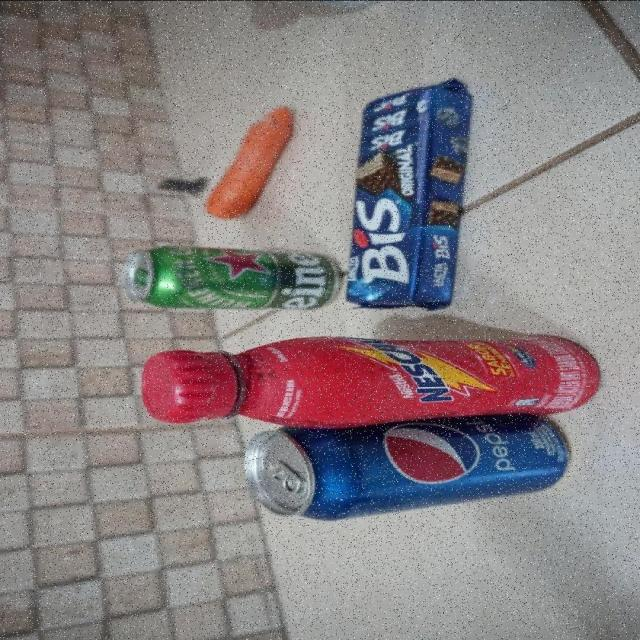BeerCan: (124, 244, 344, 312)
Carrot: (204, 104, 295, 218)
ChocolateMilk: (142, 332, 600, 427)
SodaCan: (243, 412, 572, 519)
